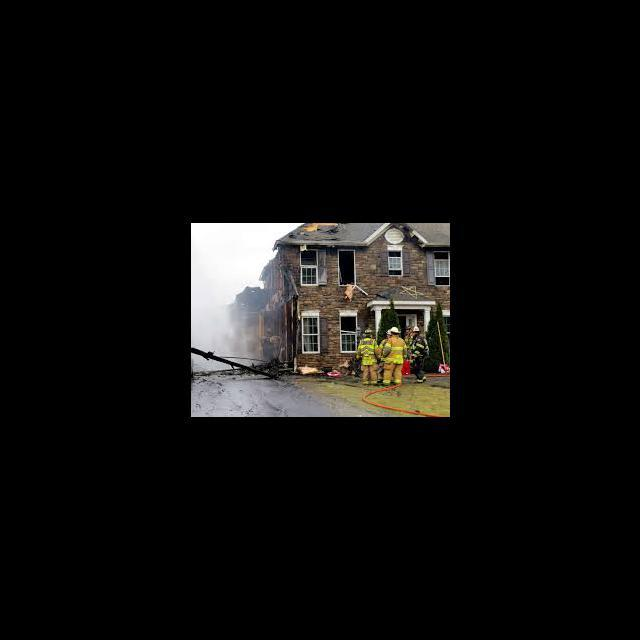Smoke: (192, 288, 258, 347)
